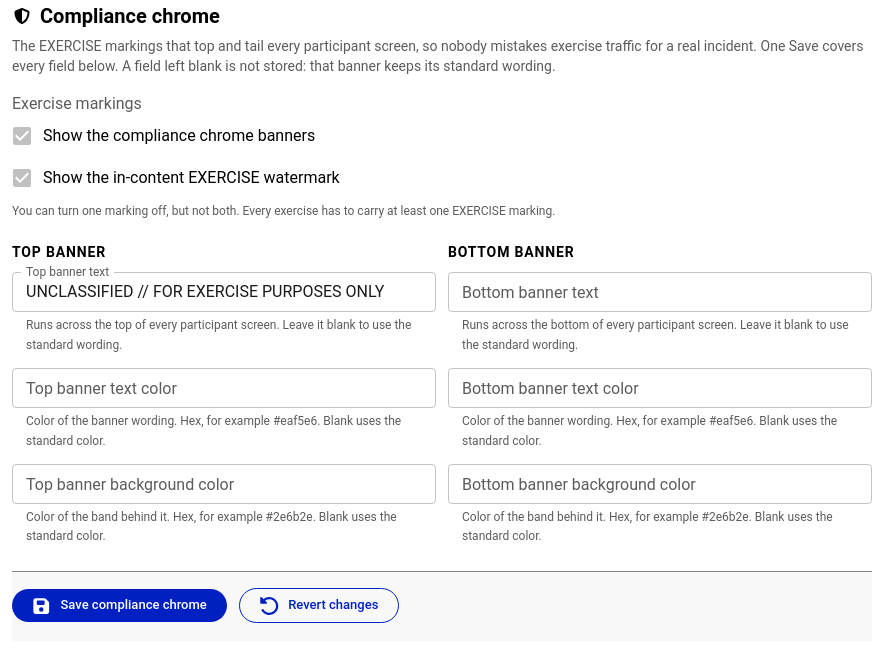
ComplianceChromePanel — NFR-008 mutual guard › surfaces the SERVER 400 verbatim when the server rejects a pair the client let through
This screenshot has width=889, height=672.
Click the button "Save compliance chrome" at (119, 606), box [12, 589, 227, 622]
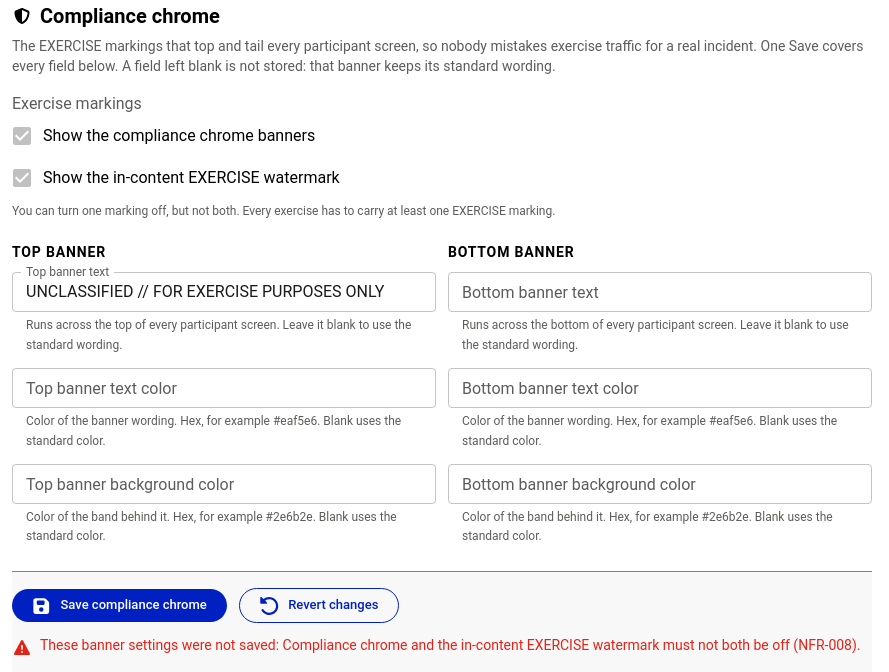
expect the message with test id "compliance-chrome-save-error" shows "must not both be off": met, box [40, 637, 860, 653]
